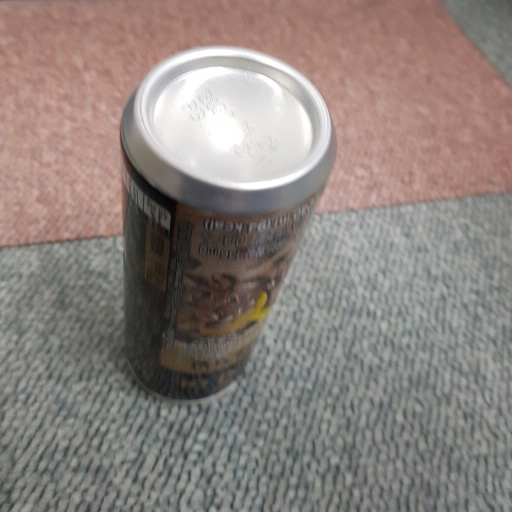Metal_0: (110, 46, 340, 402)
